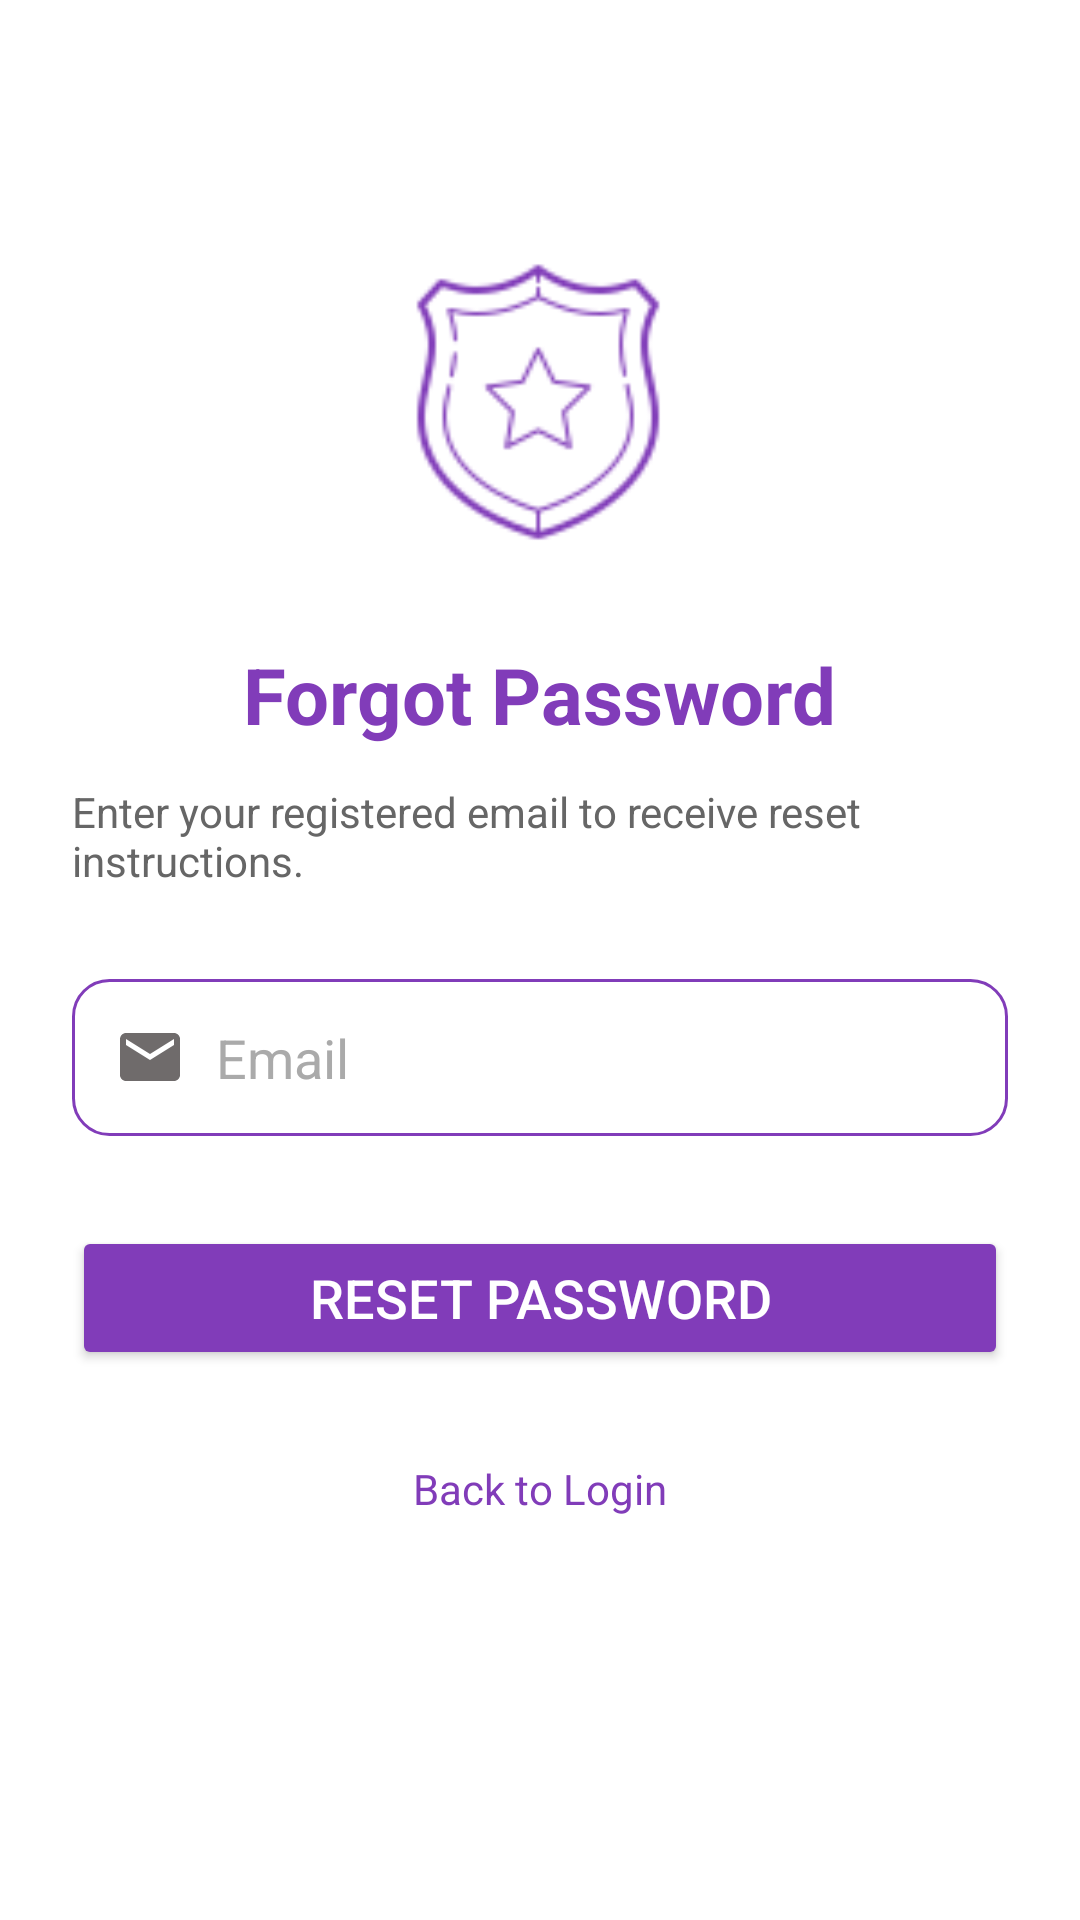

Named icons in this screenshot (1080*1920) and their centers, (x,y):
police badge: (538,402)
